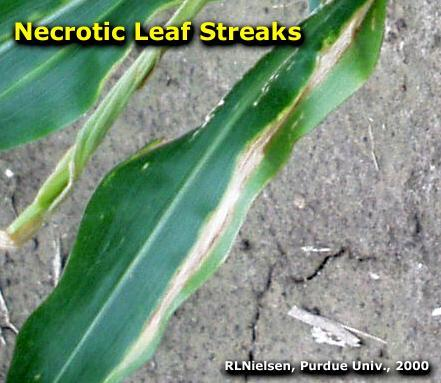Corn leaf blight: (44, 47, 372, 351)
